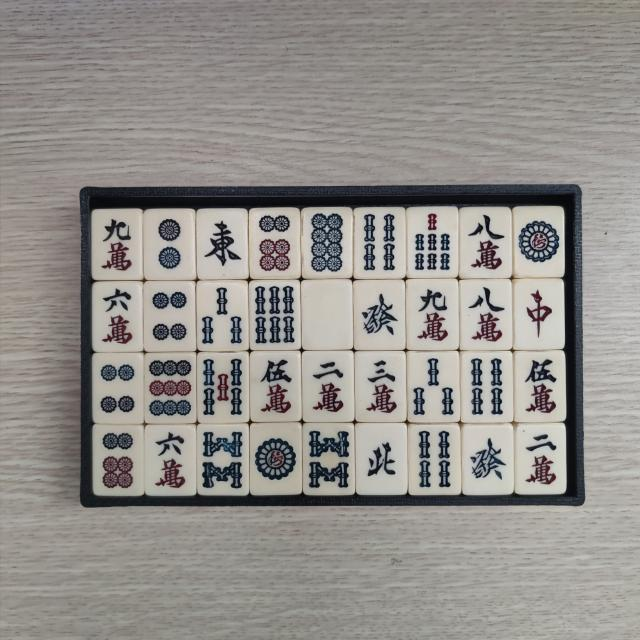hdg: (467, 428, 510, 491), (359, 286, 402, 348)
hdr: (518, 284, 560, 346)
hdw: (306, 286, 349, 346)
hwe: (200, 214, 243, 277)
hwn: (360, 426, 402, 488)
sb3: (410, 356, 456, 421), (199, 287, 244, 350)
sb4: (466, 356, 510, 420), (413, 428, 456, 492), (360, 210, 402, 275)
sb5: (200, 356, 245, 419)
sb6: (255, 282, 298, 345)
sb7: (410, 210, 454, 274)
sb8: (306, 427, 351, 492), (200, 428, 245, 492)
sc2: (306, 356, 349, 417), (520, 428, 560, 491)
sc3: (360, 356, 402, 417)
sc5: (518, 354, 561, 417), (256, 356, 298, 418)
sc6: (96, 286, 138, 348), (152, 430, 192, 492)
sc8: (464, 284, 510, 347), (465, 212, 509, 274)
sc9: (412, 284, 456, 346), (96, 214, 138, 277)
sd1: (254, 428, 300, 492), (517, 212, 561, 274)
sd2: (152, 214, 192, 276)
sd4: (96, 358, 140, 420), (148, 286, 192, 348)
sd6: (255, 213, 298, 274), (99, 430, 140, 492)
sd8: (306, 210, 348, 275)
sd9: (147, 360, 192, 422)
